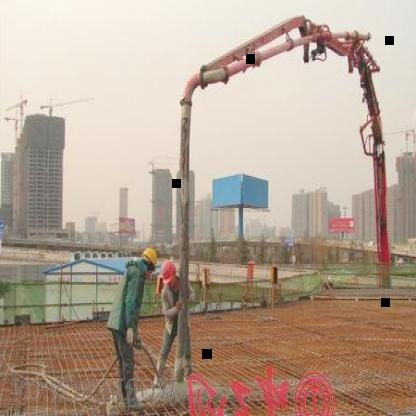helmet: (141, 241, 160, 278), (161, 257, 175, 286)
